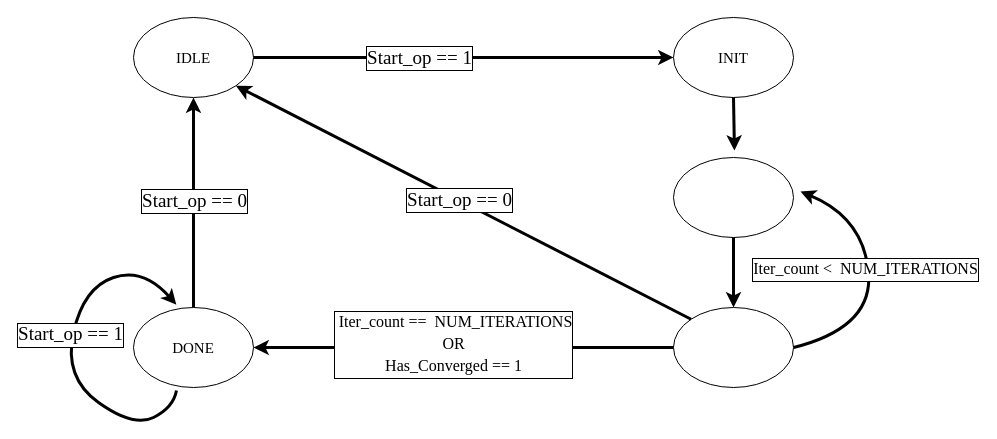
This 997x439 diagram has some shape labels left out. The centre of each missing label's shape, as x and y in pixels:
"CALL_FUNC" belongs at point (733, 197).
"CMP_STR" belongs at point (733, 347).
